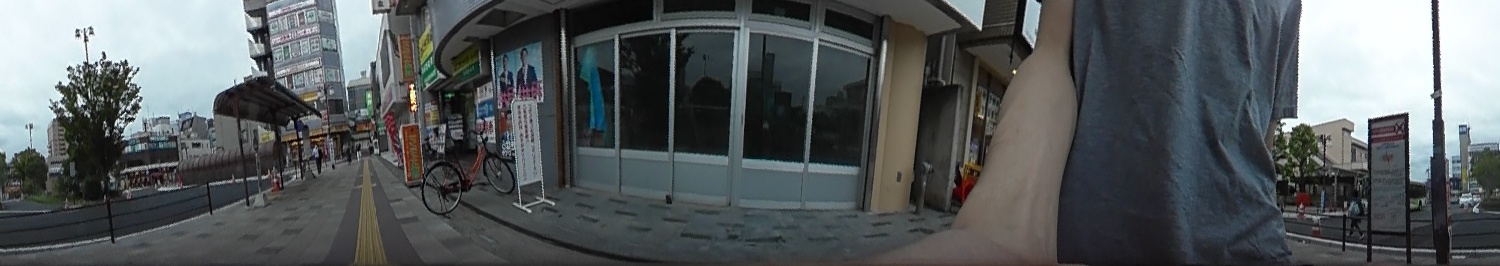difficult_person: (311, 143, 323, 173)
person: (1346, 189, 1363, 238)
